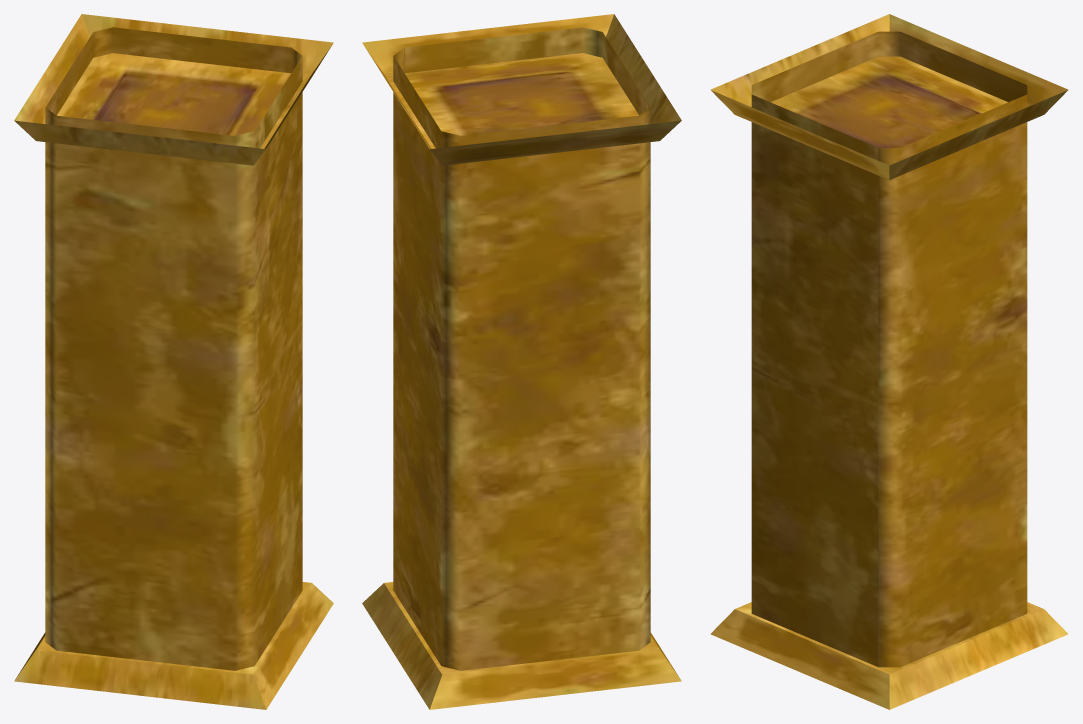
3 views of the same model, side by side, from view 1: azimuth 30°, elevation 25°; view 2: azimuth 150°, elevation 25°; view 3: azimuth 270°, elevation 25° (orthographic). The views are drawn at different scales.
Parts seen in each view (by area): view 1: SM_Dragonkin_Pipe_1m_01_v1_LOD0; view 2: SM_Dragonkin_Pipe_1m_01_v1_LOD0; view 3: SM_Dragonkin_Pipe_1m_01_v1_LOD0.
Boxes of the visible parts, x1,y1,x2,y2 form: SM_Dragonkin_Pipe_1m_01_v1_LOD0: (14,14,333,709); SM_Dragonkin_Pipe_1m_01_v1_LOD0: (362,14,681,709); SM_Dragonkin_Pipe_1m_01_v1_LOD0: (710,14,1068,709).
Size of the model in its own units: 0.597 by 1 by 0.597.
Materials: 1 (1 with a texture image).
